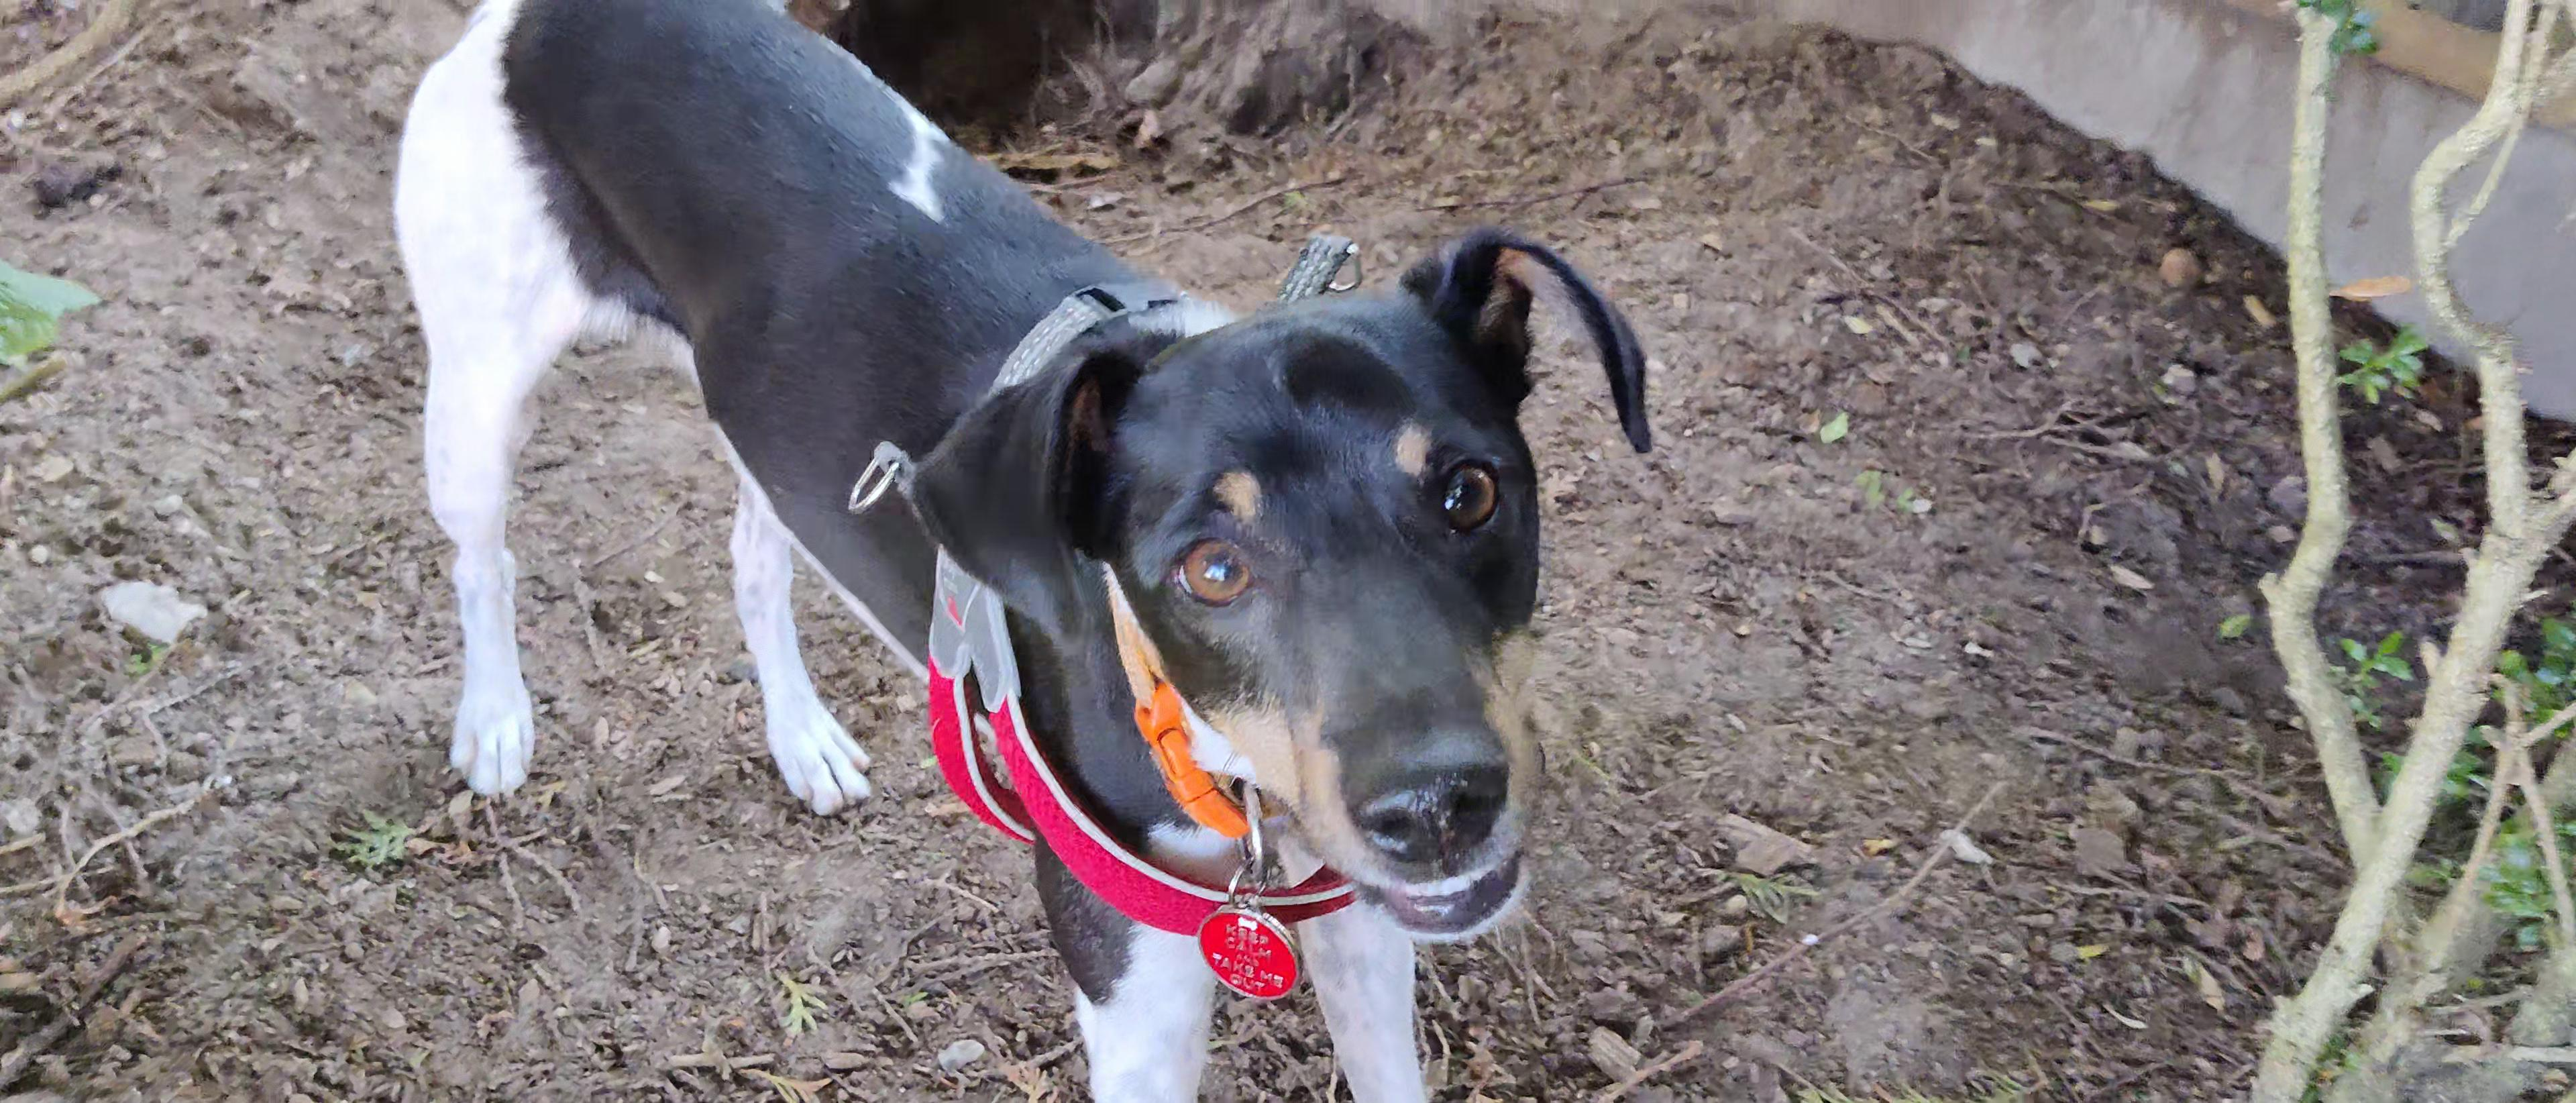Dog: (373, 0, 1672, 1103)
